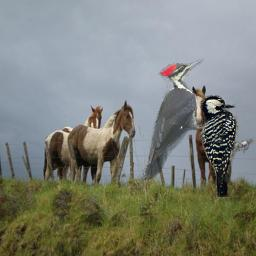Woodpecker: (139, 57, 209, 180), (199, 93, 253, 198)
